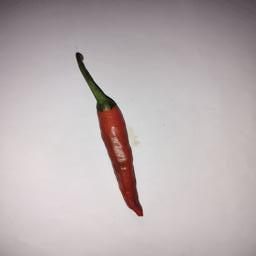Buah Cabai Sehat: (95, 97, 144, 217)
